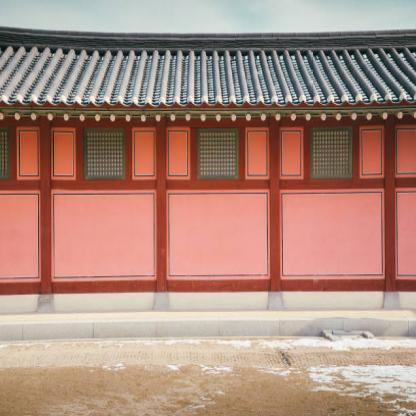Building Outline: (0, 24, 416, 312)
Facade: (0, 108, 416, 312)
Ground Floor: (0, 108, 416, 312)
Roof: (0, 24, 416, 109)
Window: (310, 128, 352, 181), (83, 128, 125, 181), (197, 128, 239, 181), (0, 128, 9, 181)
